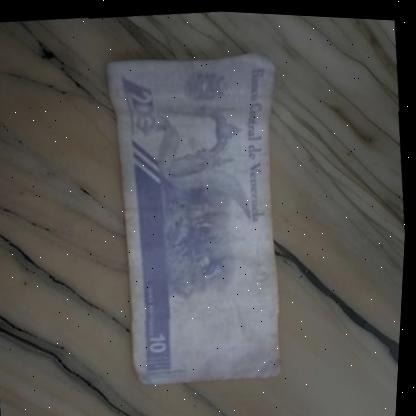ten-back-vef: (93, 42, 310, 391)
